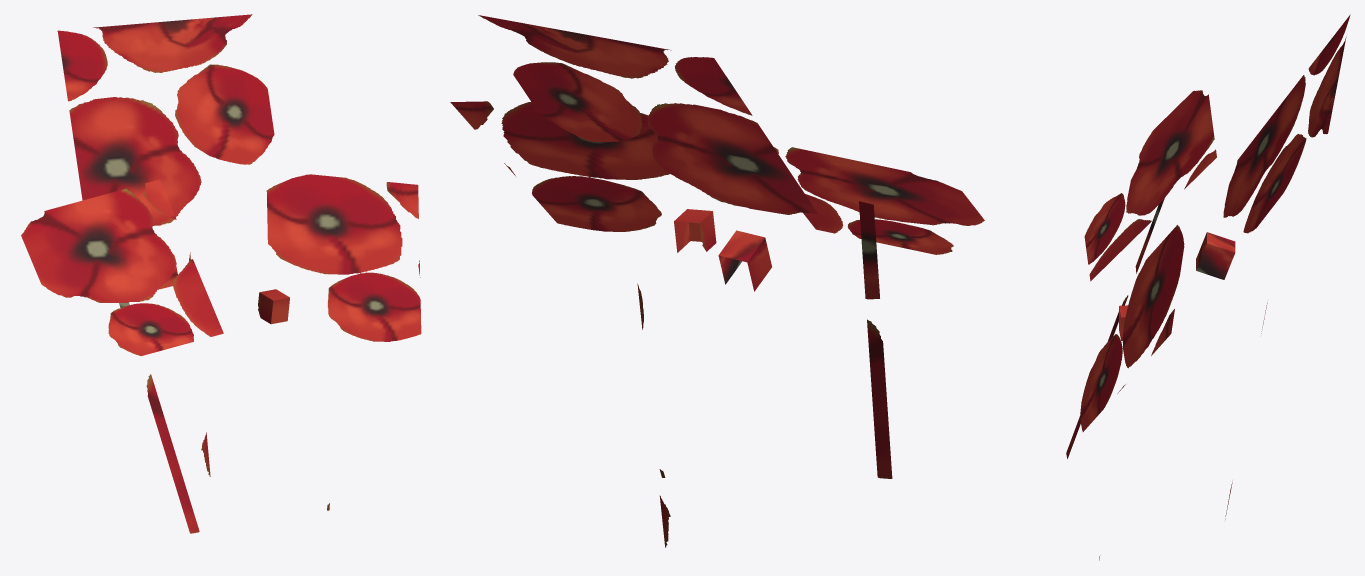
The model's file is poppyFlower.fbx.
3 renders of one model, left to right at view 1: azimuth 30°, elevation 25°; view 2: azimuth 150°, elevation 25°; view 3: azimuth 270°, elevation 25°, orthographic. The views are drawn at different scales.
Parts seen in each view (by area): view 1: Plane025; view 2: Plane025; view 3: Plane025.
Part boxes in pixels (x1,y1,x2,y2): Plane025: [21, 14, 421, 533]; Plane025: [450, 15, 984, 547]; Plane025: [1066, 14, 1350, 560].
Size of the model in its own units: 48.43 by 53.58 by 29.64.
